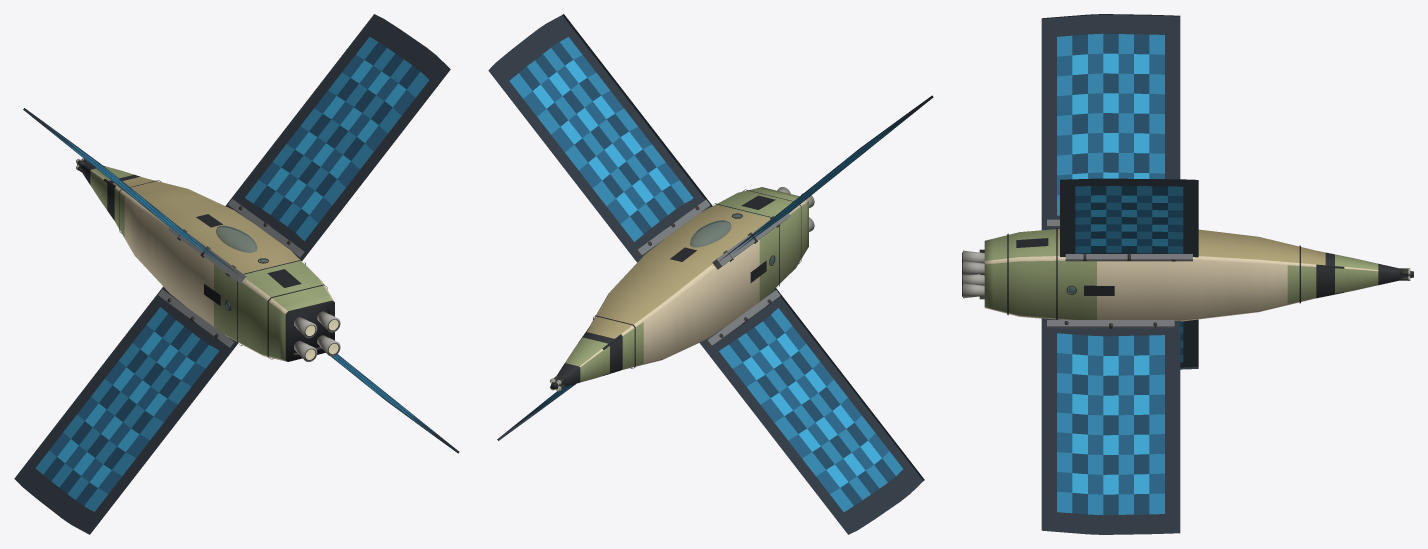
File: Ship_Crosspanel_12.glb
3 renders of one model, left to right at view 1: azimuth 30°, elevation 25°; view 2: azimuth 150°, elevation 25°; view 3: azimuth 270°, elevation 25°, orthographic. The views are drawn at different scales.
Visible parts, largest first — view 1: SolarPanelWing_TopRightRidge_RectangularPhotovoltaicGrid, SolarPanelWing_LowerLeftRidge_RectangularPhotovoltaicGrid, Fuselage_SquareBody, SolarPanelWing_TopLeftRidge_RectangularPhotovoltaicGrid, Nose_SquareTaperedForwardSection, SolarPanelWing_LowerRightRidge_RectangularPhotovoltaicGrid, Canopy_DorsalLowSquareBubble, SolarPanelWing_TopRightRidge_RootHingeClamp, SolarPanelWing_LowerLeftRidge_RootHingeClamp, SolarPanelWing_TopLeftRidge_RootHingeClamp; view 2: SolarPanelWing_TopRightRidge_RectangularPhotovoltaicGrid, SolarPanelWing_LowerLeftRidge_RectangularPhotovoltaicGrid, Fuselage_SquareBody, Nose_SquareTaperedForwardSection, SolarPanelWing_TopLeftRidge_RectangularPhotovoltaicGrid, Canopy_DorsalLowSquareBubble, SolarPanelWing_LowerLeftRidge_RootHingeClamp, SolarPanelWing_TopRightRidge_RootHingeClamp, SolarPanelWing_TopLeftRidge_RootHingeClamp; view 3: SolarPanelWing_LowerRightRidge_RectangularPhotovoltaicGrid, SolarPanelWing_TopLeftRidge_RectangularPhotovoltaicGrid, Fuselage_SquareBody, SolarPanelWing_TopRightRidge_RectangularPhotovoltaicGrid, Nose_SquareTaperedForwardSection, SolarPanelWing_LowerRightRidge_RootHingeClamp, SolarPanelWing_TopRightRidge_RootHingeClamp, SolarPanelWing_LowerLeftRidge_RectangularPhotovoltaicGrid.
Part boxes in pixels (x1,y1,x2,y2): SolarPanelWing_TopRightRidge_RectangularPhotovoltaicGrid: [225, 14, 450, 260]; SolarPanelWing_LowerLeftRidge_RectangularPhotovoltaicGrid: [14, 286, 238, 534]; Fuselage_SquareBody: [114, 178, 334, 361]; SolarPanelWing_TopLeftRidge_RectangularPhotovoltaicGrid: [23, 108, 245, 280]; Nose_SquareTaperedForwardSection: [77, 159, 146, 220]; SolarPanelWing_LowerRightRidge_RectangularPhotovoltaicGrid: [331, 354, 459, 453]; Canopy_DorsalLowSquareBubble: [216, 225, 257, 252]; SolarPanelWing_TopRightRidge_RootHingeClamp: [228, 199, 304, 257]; SolarPanelWing_LowerLeftRidge_RootHingeClamp: [158, 289, 234, 347]; SolarPanelWing_TopLeftRidge_RootHingeClamp: [168, 227, 245, 283]; SolarPanelWing_TopRightRidge_RectangularPhotovoltaicGrid: [488, 14, 712, 262]; SolarPanelWing_LowerLeftRidge_RectangularPhotovoltaicGrid: [699, 288, 924, 534]; Fuselage_SquareBody: [589, 187, 808, 370]; Nose_SquareTaperedForwardSection: [551, 326, 622, 389]; SolarPanelWing_TopLeftRidge_RectangularPhotovoltaicGrid: [713, 95, 933, 265]; Canopy_DorsalLowSquareBubble: [690, 220, 731, 247]; SolarPanelWing_LowerLeftRidge_RootHingeClamp: [704, 290, 780, 348]; SolarPanelWing_TopRightRidge_RootHingeClamp: [634, 199, 710, 257]; SolarPanelWing_TopLeftRidge_RootHingeClamp: [712, 213, 790, 269]; SolarPanelWing_LowerRightRidge_RectangularPhotovoltaicGrid: [1041, 318, 1180, 534]; SolarPanelWing_TopLeftRidge_RectangularPhotovoltaicGrid: [1041, 14, 1180, 230]; Fuselage_SquareBody: [984, 229, 1316, 321]; SolarPanelWing_TopRightRidge_RectangularPhotovoltaicGrid: [1060, 178, 1198, 257]; Nose_SquareTaperedForwardSection: [1316, 250, 1413, 298]; SolarPanelWing_LowerRightRidge_RootHingeClamp: [1047, 320, 1174, 328]; SolarPanelWing_TopRightRidge_RootHingeClamp: [1065, 254, 1192, 261]; SolarPanelWing_LowerLeftRidge_RectangularPhotovoltaicGrid: [1180, 319, 1198, 369].
Size of the model in its own units: 7.58 by 7.58 by 8.71.
